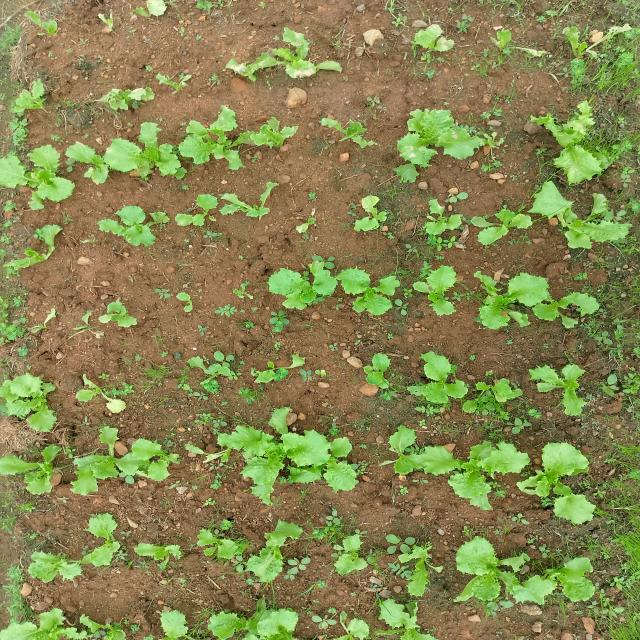Lettuce: (211, 414, 376, 504), (221, 22, 345, 94), (527, 180, 633, 252), (393, 112, 500, 177), (467, 264, 555, 332), (532, 110, 610, 184), (0, 142, 79, 213), (103, 118, 179, 185), (180, 103, 246, 176), (524, 436, 595, 498), (0, 368, 67, 430), (454, 534, 512, 605), (338, 258, 406, 318), (408, 348, 470, 413), (96, 198, 165, 253), (0, 612, 131, 640), (530, 361, 592, 417), (2, 442, 67, 495), (388, 424, 444, 484), (401, 22, 456, 82), (177, 192, 238, 244), (539, 552, 599, 604), (410, 261, 462, 320), (472, 202, 534, 250), (264, 272, 334, 314), (255, 516, 306, 573), (80, 510, 130, 568), (124, 436, 180, 486), (75, 369, 131, 419), (22, 221, 68, 273), (195, 518, 245, 564), (26, 548, 84, 586), (358, 350, 402, 399), (250, 114, 301, 155), (96, 84, 156, 117), (11, 77, 52, 123), (136, 539, 188, 575)
